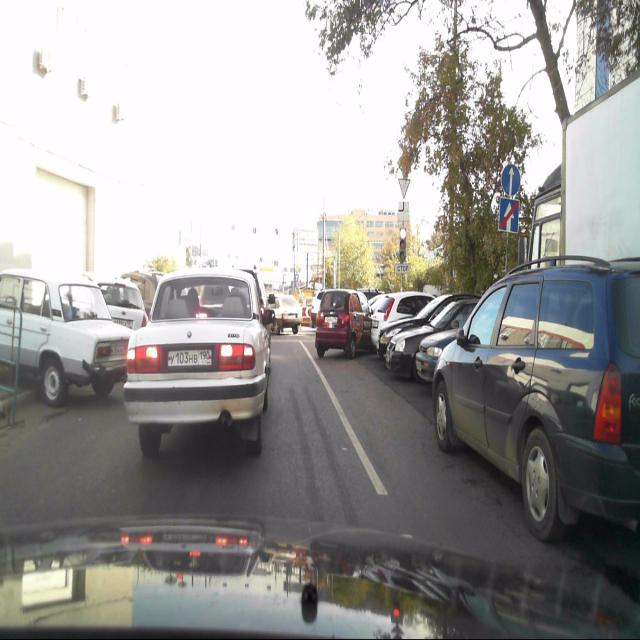road sign: (498, 196, 521, 235), (398, 199, 410, 223), (398, 176, 410, 199)
